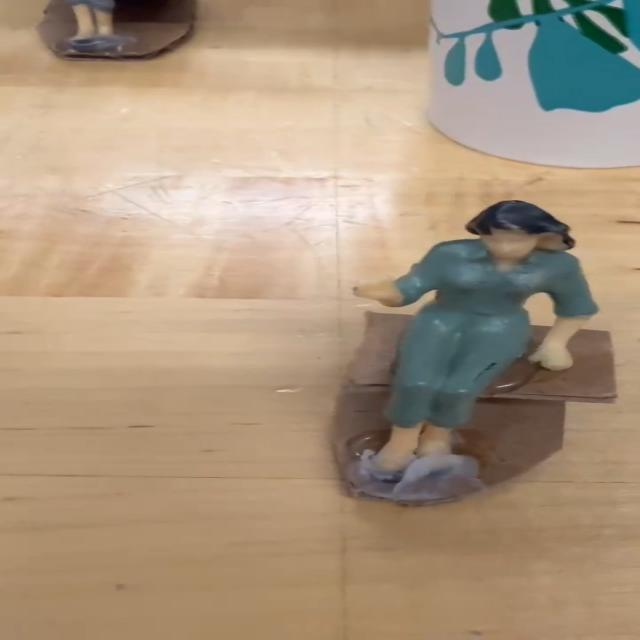Authorized: (320, 197, 613, 482)
